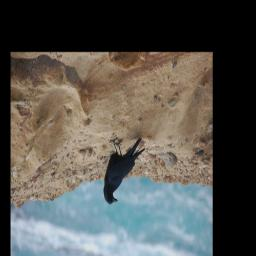Crow: (103, 135, 145, 207)
